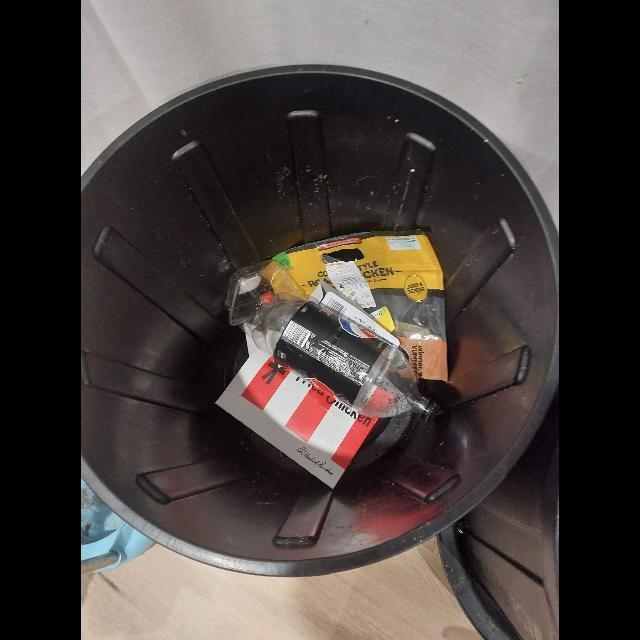paper: (216, 335, 378, 489), (326, 261, 376, 309)
plastic: (251, 292, 440, 422)
wrapper: (273, 230, 449, 383)
